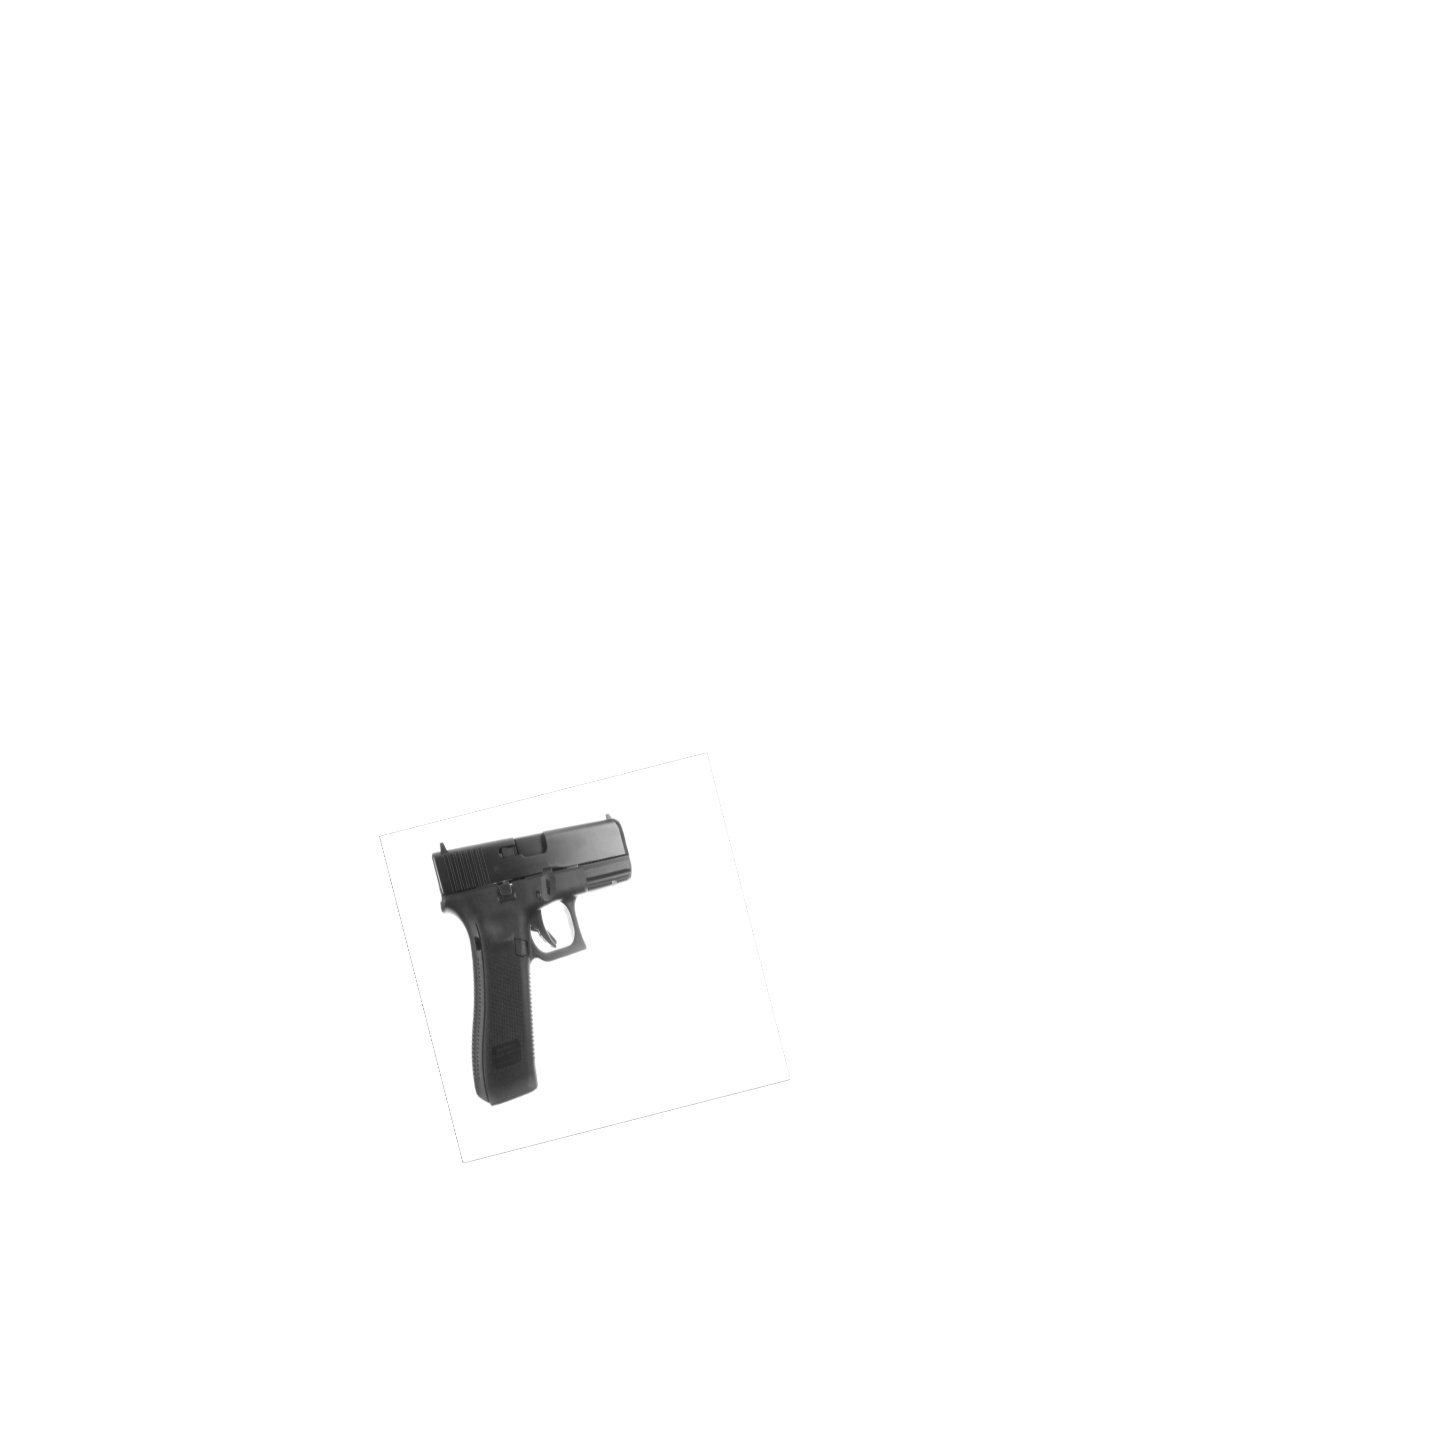gun: (435, 814, 629, 1106)
